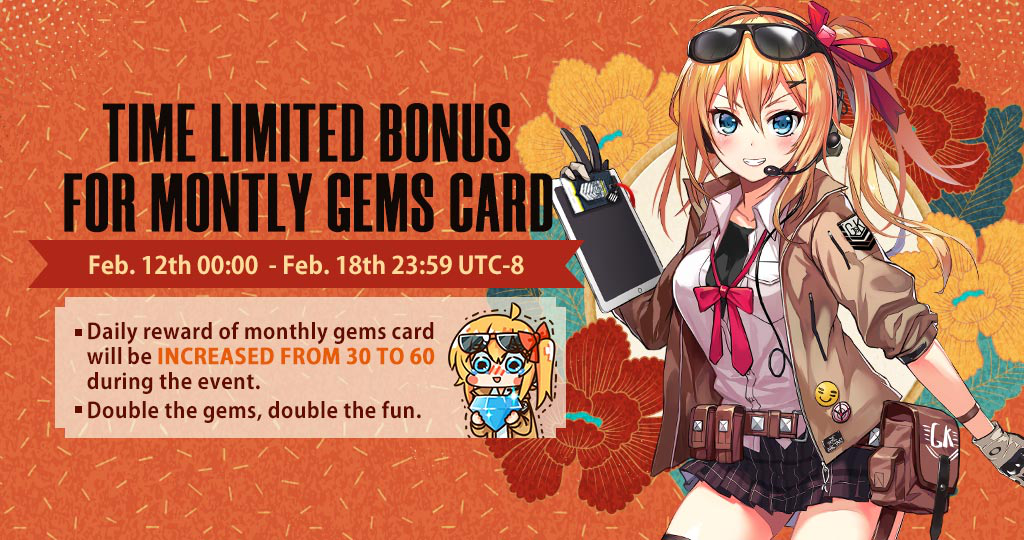latin: (59, 100, 555, 235), (85, 319, 435, 394), (86, 253, 526, 280), (85, 399, 422, 424)
